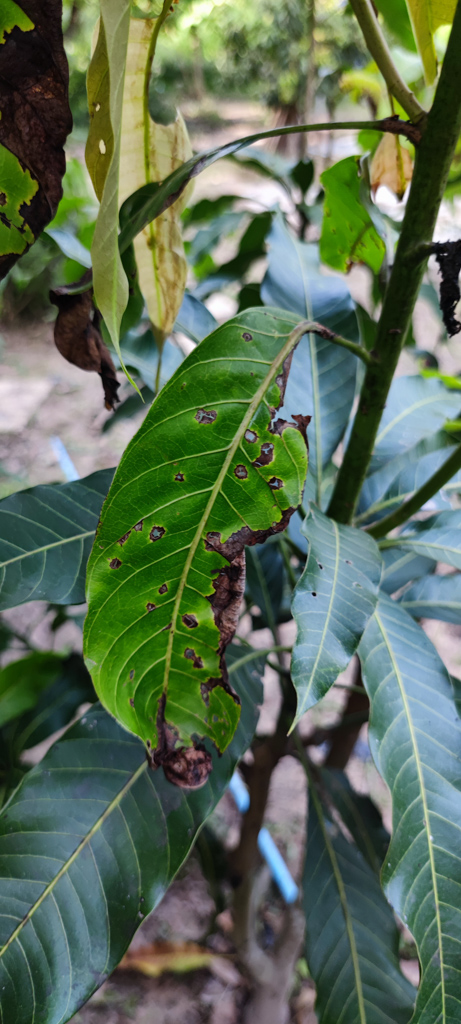frog-eye leafspot: (188, 392, 220, 436), (102, 551, 131, 580), (179, 644, 206, 675), (176, 608, 202, 640), (147, 522, 174, 547), (235, 425, 260, 450), (165, 465, 192, 486), (150, 576, 173, 598), (264, 474, 288, 493), (237, 324, 255, 347), (232, 459, 246, 485), (144, 597, 159, 614)
